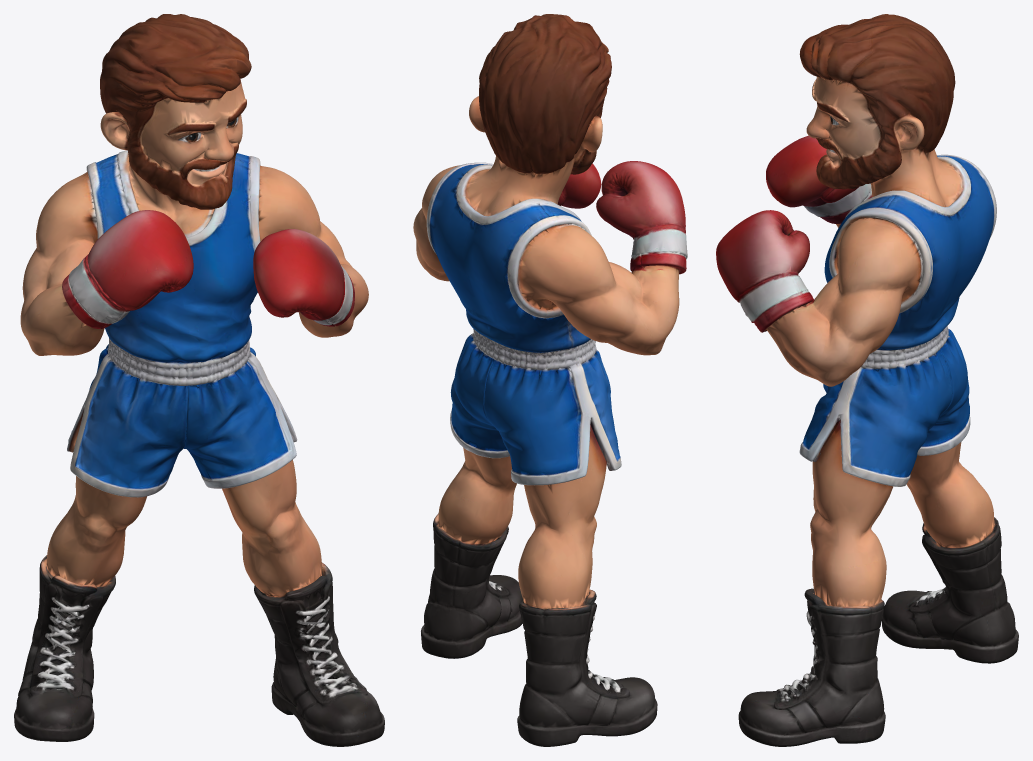
Rendered from eron-muay-thai.glb.
3 views of the same model, side by side, from view 1: azimuth 30°, elevation 25°; view 2: azimuth 150°, elevation 25°; view 3: azimuth 270°, elevation 25° (orthographic). The views are drawn at different scales.
Visible parts, largest first — view 1: tripo_node_63906c93-57cd-4121-9e98-25a139e59e91; view 2: tripo_node_63906c93-57cd-4121-9e98-25a139e59e91; view 3: tripo_node_63906c93-57cd-4121-9e98-25a139e59e91.
Part boxes in pixels (left/top/right/bottom): tripo_node_63906c93-57cd-4121-9e98-25a139e59e91: left=14, top=14, right=384, bottom=746; tripo_node_63906c93-57cd-4121-9e98-25a139e59e91: left=413, top=14, right=687, bottom=746; tripo_node_63906c93-57cd-4121-9e98-25a139e59e91: left=716, top=14, right=1018, bottom=746.
Bounding box in the file's own units: 0.4412 × 0.981 × 0.4103.
1 material, 1 textured.
